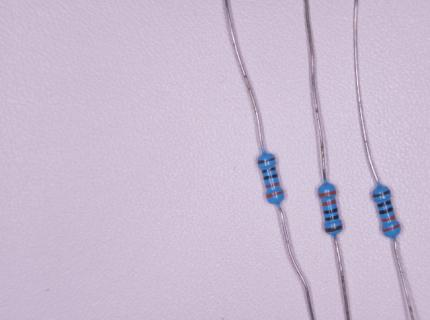Orange band: (382, 223, 400, 232), (266, 190, 284, 198), (381, 214, 396, 222), (319, 191, 337, 197), (322, 199, 336, 206), (266, 182, 279, 189)
